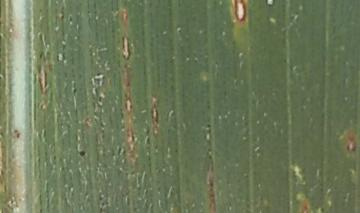tarspot: (75, 147, 89, 158), (93, 69, 104, 81), (69, 84, 79, 97)
